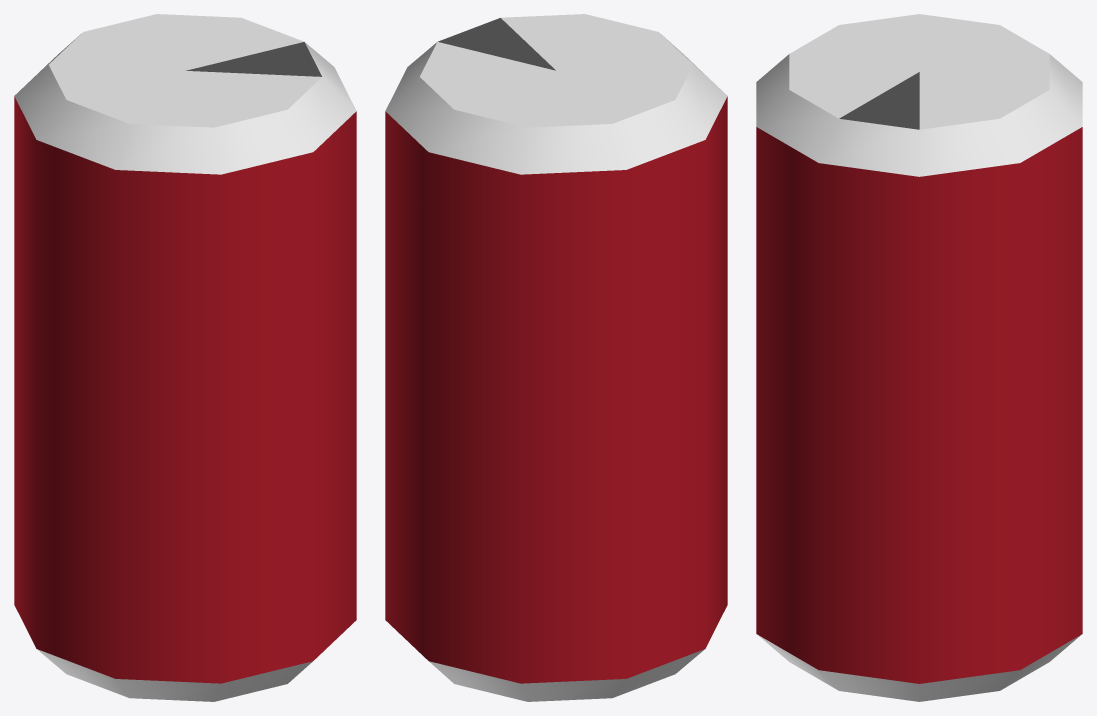
Rendered from BasuraLata.FBX.
3 views of the same model, side by side, from view 1: azimuth 30°, elevation 25°; view 2: azimuth 150°, elevation 25°; view 3: azimuth 270°, elevation 25° (orthographic).
Visible parts, largest first — view 1: Object017; view 2: Object017; view 3: Object017.
Boxes of the visible parts, left/top/right/bottom form: Object017: left=14, top=14, right=356, bottom=701; Object017: left=385, top=14, right=727, bottom=701; Object017: left=756, top=14, right=1082, bottom=701.
Size of the model in its own units: 17.55 by 32.31 by 16.69.
